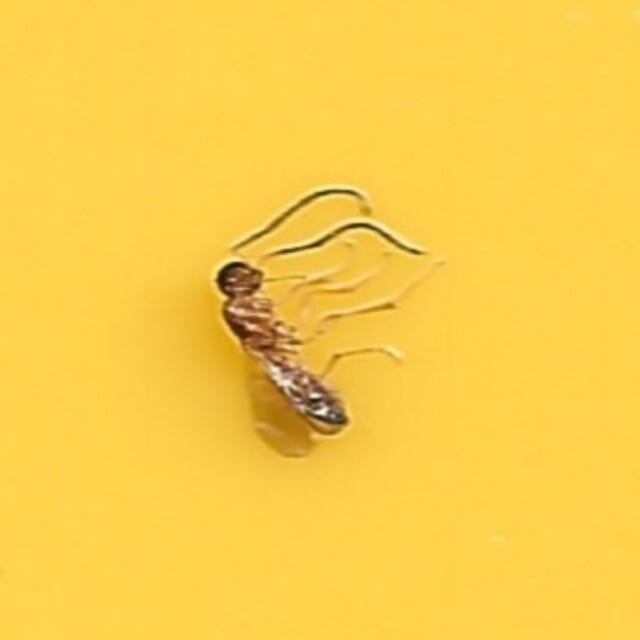Hymenoptera: (210, 184, 430, 456)
